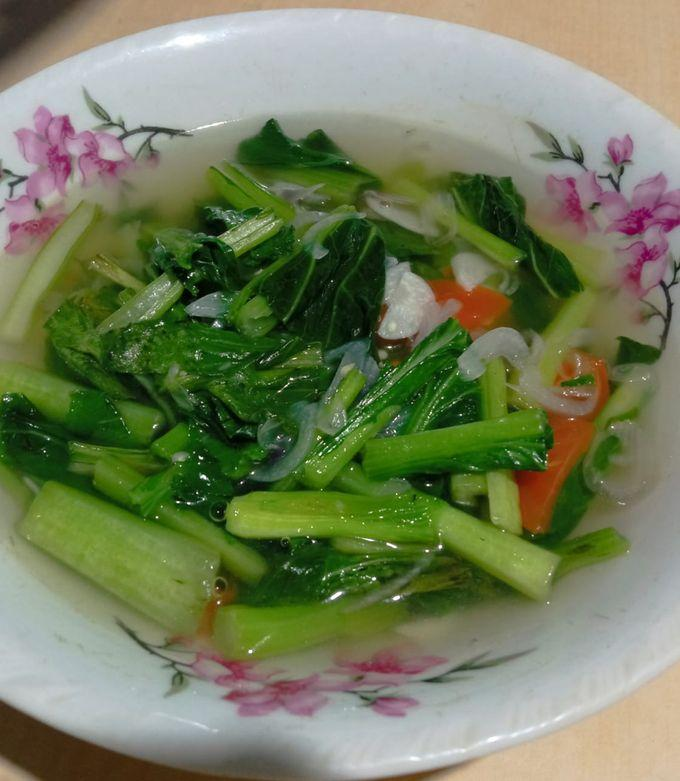buah_sayur_lainnya: (86, 215, 450, 642)
